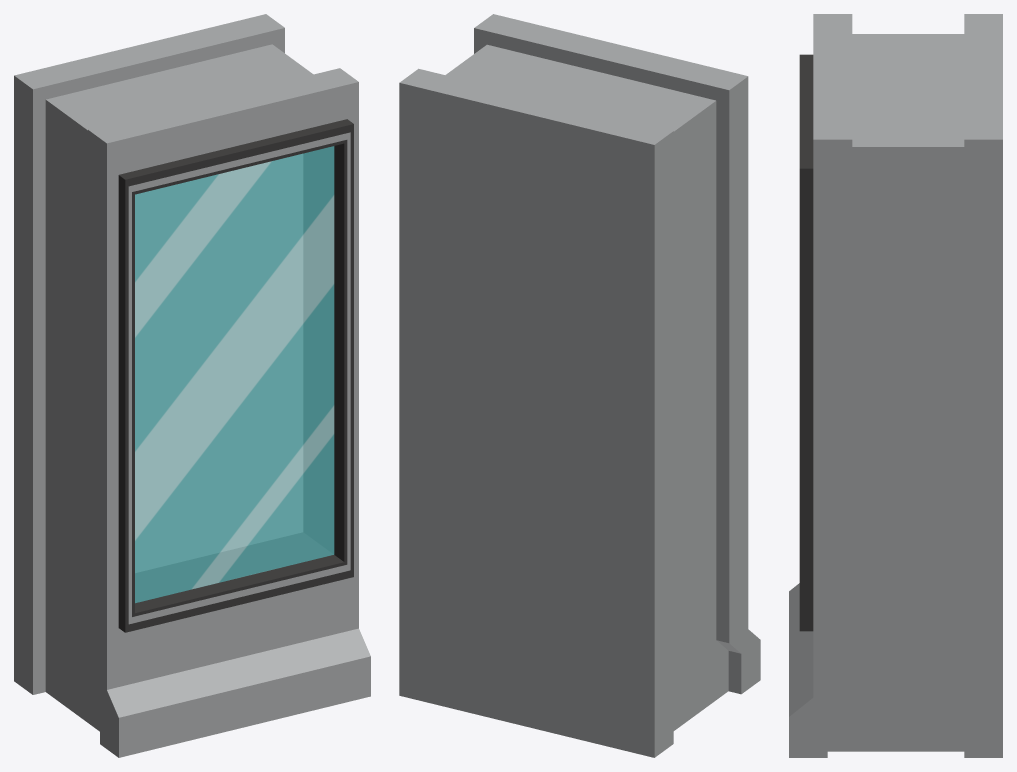
File: Fridge.fbx
3 renders of one model, left to right at view 1: azimuth 30°, elevation 25°; view 2: azimuth 150°, elevation 25°; view 3: azimuth 270°, elevation 25°, orthographic. The views are drawn at different scales.
Visible parts, largest first — view 1: Cube; view 2: Cube; view 3: Cube.
Part boxes in pixels (box(x1,y1,x2,y2)): Cube: box(14, 14, 370, 757); Cube: box(399, 14, 760, 757); Cube: box(789, 14, 1002, 757).
Size of the model in its own units: 78.4 by 180 by 56.45.
4 materials, 1 textured.
